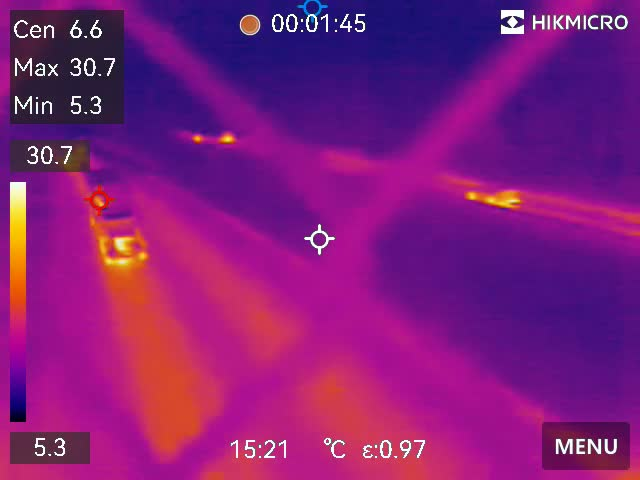heavyTruck: (81, 166, 153, 272)
